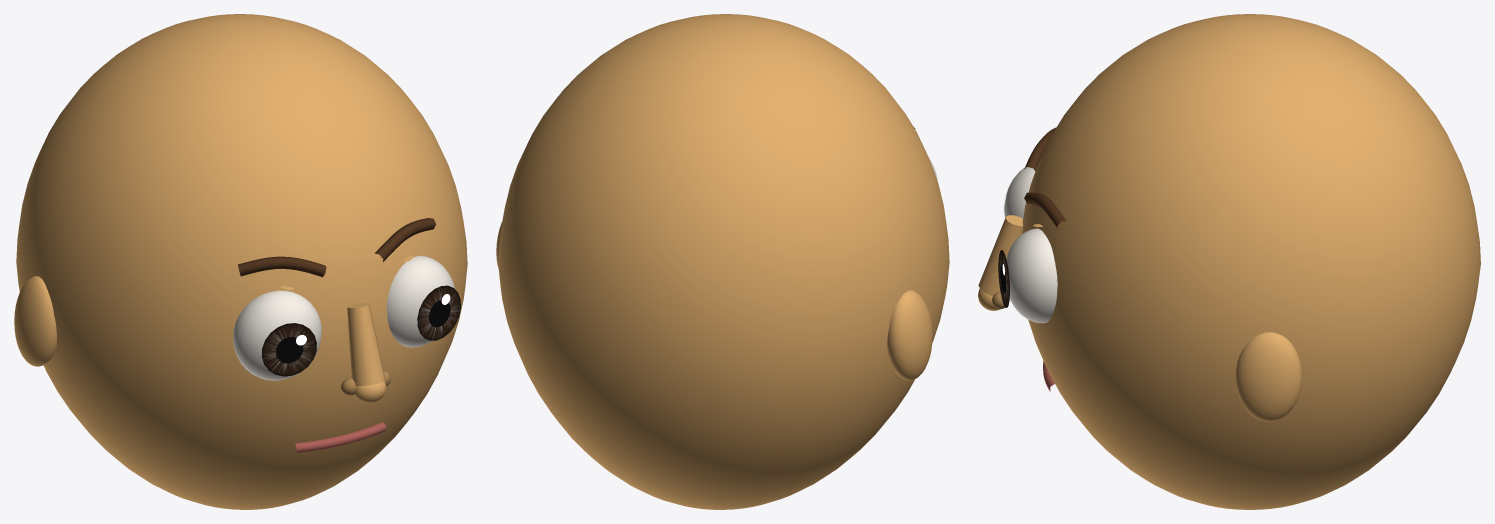
The model's file is 07-doux.glb.
The picture shows the model from 3 angles, left to right: view 1: azimuth 30°, elevation 25°; view 2: azimuth 150°, elevation 25°; view 3: azimuth 270°, elevation 25°; orthographic projection.
Size of the model in its own units: 0.3087 by 0.321 by 0.3166.
Materials: 9 (1 with a texture image).
